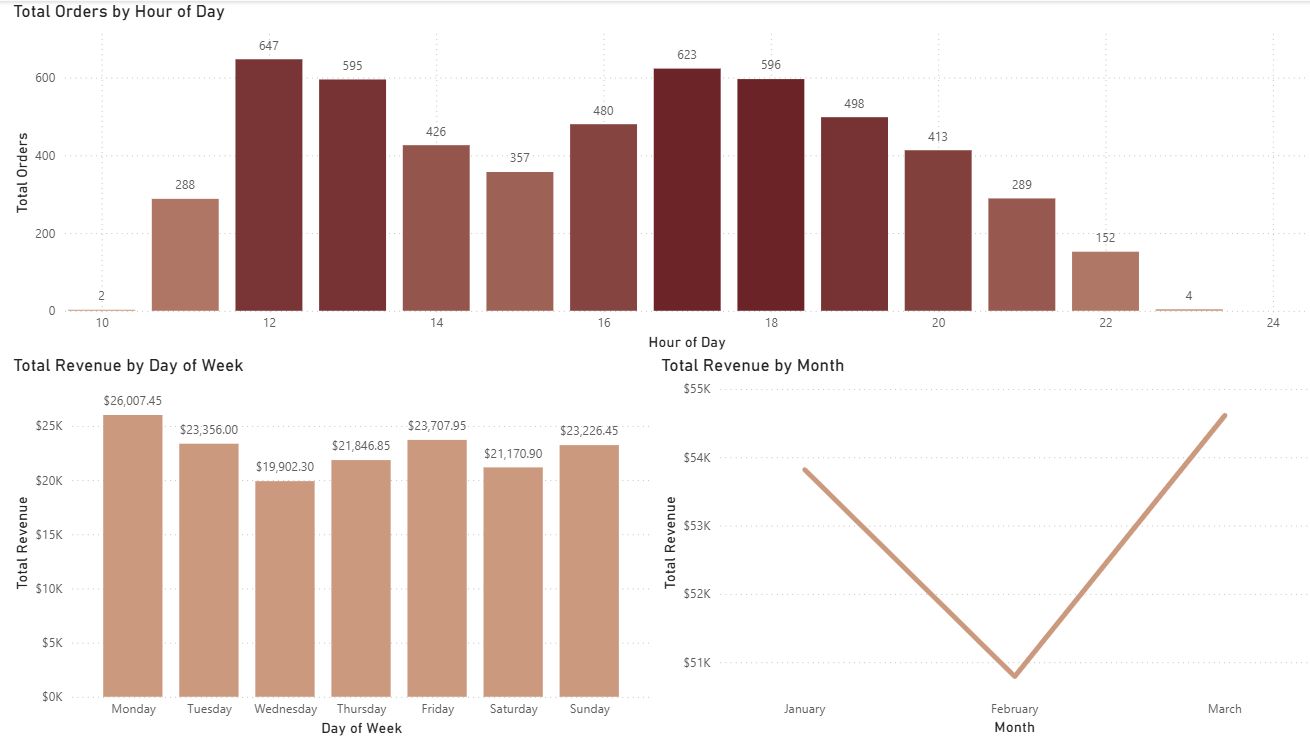

Layout of this report page (visuals, bound fields, positions):
{"tool":"powerbi","page":{"name":"Time & Trends","canvas":[1280,720],"ordinal":2},"visuals":[{"type":"clusteredColumnChart","fields":{"Category":["order_details_exp.Hour of Day"],"Y":["Measures1.Total Orders"]},"box":[9.7,0,1270.3,344.3],"z":0},{"type":"clusteredColumnChart","fields":{"Y":["Measures1.Total Revenue"],"Category":["order_details_exp.Day of Week"]},"box":[9.7,344.3,630.3,375.4],"z":1},{"type":"lineChart","fields":{"Category":["order_details_exp.order_date.Variation.Date Hierarchy.Month"],"Y":["Measures1.Total Revenue"]},"box":[640,344,640,375],"z":2}]}

Visuals, with their boxes in screenshot pixels (x1, y1, x2, y2), scaled from the page's 1280x720 canvas onto the 1310x739 screenshot:
clusteredColumnChart - order_details_exp.Hour of Day x Measures1.Total Orders: 10,0,1309,353
clusteredColumnChart - Measures1.Total Revenue x order_details_exp.Day of Week: 10,353,655,738
lineChart - order_details_exp.order_date.Variation.Date Hierarchy.Month x Measures1.Total Revenue: 655,353,1309,738
